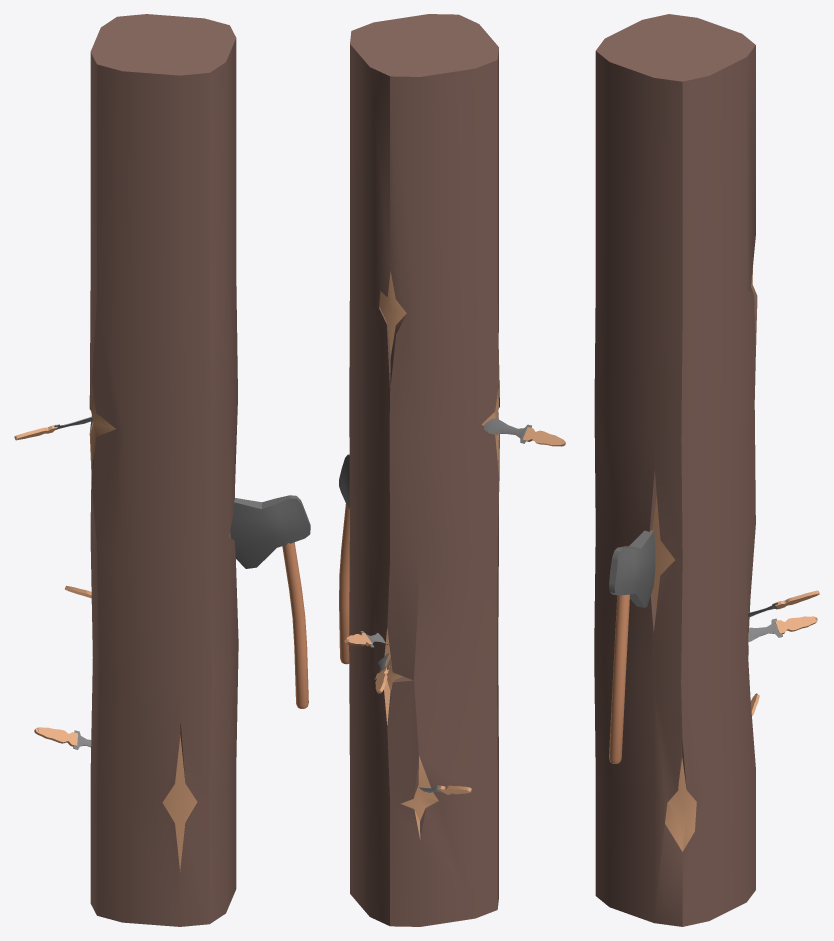
Rendered from Coin.fbx.
The picture shows the model from 3 angles, left to right: view 1: azimuth 30°, elevation 25°; view 2: azimuth 150°, elevation 25°; view 3: azimuth 270°, elevation 25°; orthographic projection.
Visible parts, largest first — view 1: Cube.009; view 2: Cube.009; view 3: Cube.009.
Part boxes in pixels (x1=…): Cube.009: x1=14, y1=14, x2=310, y2=926; Cube.009: x1=339, y1=14, x2=565, y2=926; Cube.009: x1=594, y1=14, x2=819, y2=926.
Size of the model in its own units: 186 by 579 by 140.
